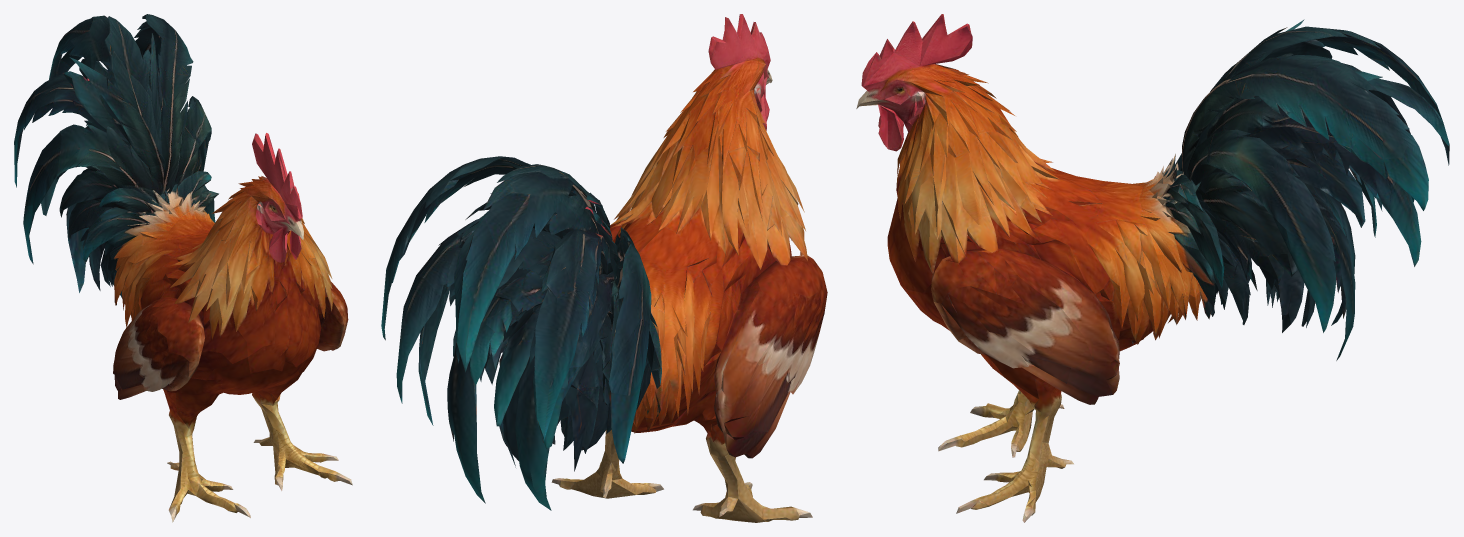
The model's file is fowl.glb.
3 renders of one model, left to right at view 1: azimuth 30°, elevation 25°; view 2: azimuth 150°, elevation 25°; view 3: azimuth 270°, elevation 25°, orthographic. The views are drawn at different scales.
Size of the model in its own units: 0.857 by 1.58 by 1.9.
1 material, 1 textured.
